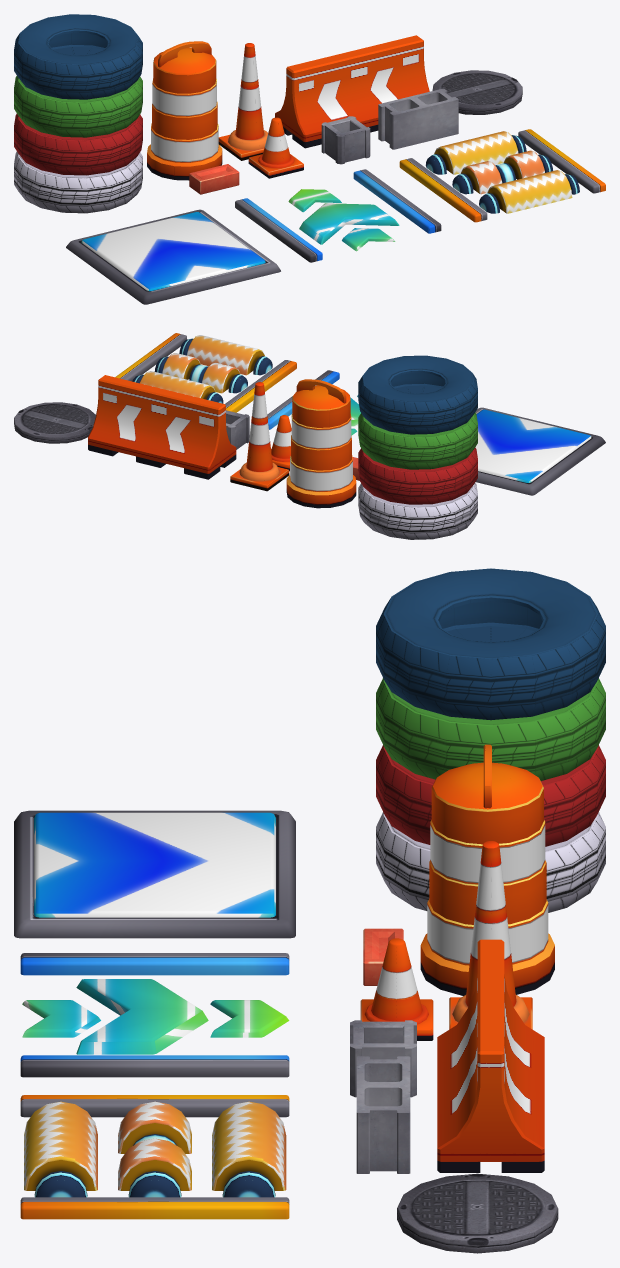
File: StreetProps.fbx
3 renders of one model, top to bottom at view 1: azimuth 30°, elevation 25°; view 2: azimuth 150°, elevation 25°; view 3: azimuth 270°, elevation 25°, orthographic. The views are drawn at different scales.
Parts seen in each view (by area): view 1: SpeedBoosterVar01, SpeedBoosterVar03, Barrier, Tyre.003, CylinderBarrier, SpeedBoosterVar02, Tyre.002, Tyre.001, Tyre, CinderBlock, Manhole, CautionConeLarge (+3 smaller); view 2: Barrier, Tyre.003, CylinderBarrier, SpeedBoosterVar03, SpeedBoosterVar01, Tyre, Tyre.001, Tyre.002, Manhole, CautionConeLarge, SpeedBoosterVar02, CautionConeSmall (+1 smaller); view 3: SpeedBoosterVar01, SpeedBoosterVar03, Tyre.003, SpeedBoosterVar02, CylinderBarrier, Barrier, Tyre.002, Manhole, Tyre.001, Tyre, CinderBlock, CautionConeLarge (+3 smaller).
Part boxes in pixels (x1,y1,x2,y2): SpeedBoosterVar01: [66, 209, 280, 304]; SpeedBoosterVar03: [399, 129, 605, 222]; Barrier: [275, 35, 429, 148]; Tyre.003: [14, 14, 142, 99]; CylinderBarrier: [147, 41, 222, 180]; SpeedBoosterVar02: [235, 169, 441, 262]; Tyre.002: [14, 76, 142, 137]; Tyre.001: [14, 113, 142, 175]; Tyre: [14, 151, 142, 213]; CinderBlock: [378, 88, 458, 149]; Manhole: [432, 70, 522, 114]; CautionConeLarge: [218, 43, 267, 160]; Barrier: [88, 375, 236, 479]; Tyre.003: [358, 355, 477, 434]; CylinderBarrier: [286, 379, 356, 508]; SpeedBoosterVar03: [115, 333, 296, 412]; SpeedBoosterVar01: [475, 407, 605, 495]; Tyre: [358, 482, 477, 539]; Tyre.001: [358, 447, 477, 504]; Tyre.002: [358, 412, 477, 469]; Manhole: [14, 402, 95, 443]; CautionConeLarge: [230, 382, 289, 491]; SpeedBoosterVar02: [267, 370, 360, 435]; CautionConeSmall: [271, 415, 291, 471]; SpeedBoosterVar01: [14, 810, 295, 938]; SpeedBoosterVar03: [20, 1095, 289, 1219]; Tyre.003: [376, 568, 605, 720]; SpeedBoosterVar02: [20, 953, 289, 1077]; CylinderBarrier: [420, 744, 554, 995]; Barrier: [437, 939, 544, 1172]; Tyre.002: [376, 678, 605, 780]; Manhole: [397, 1173, 558, 1253]; Tyre.001: [376, 745, 605, 846]; Tyre: [376, 812, 605, 912]; CinderBlock: [356, 1056, 410, 1173]; CautionConeLarge: [449, 841, 532, 1029].
Size of the model in its own units: 765 by 220 by 441.
